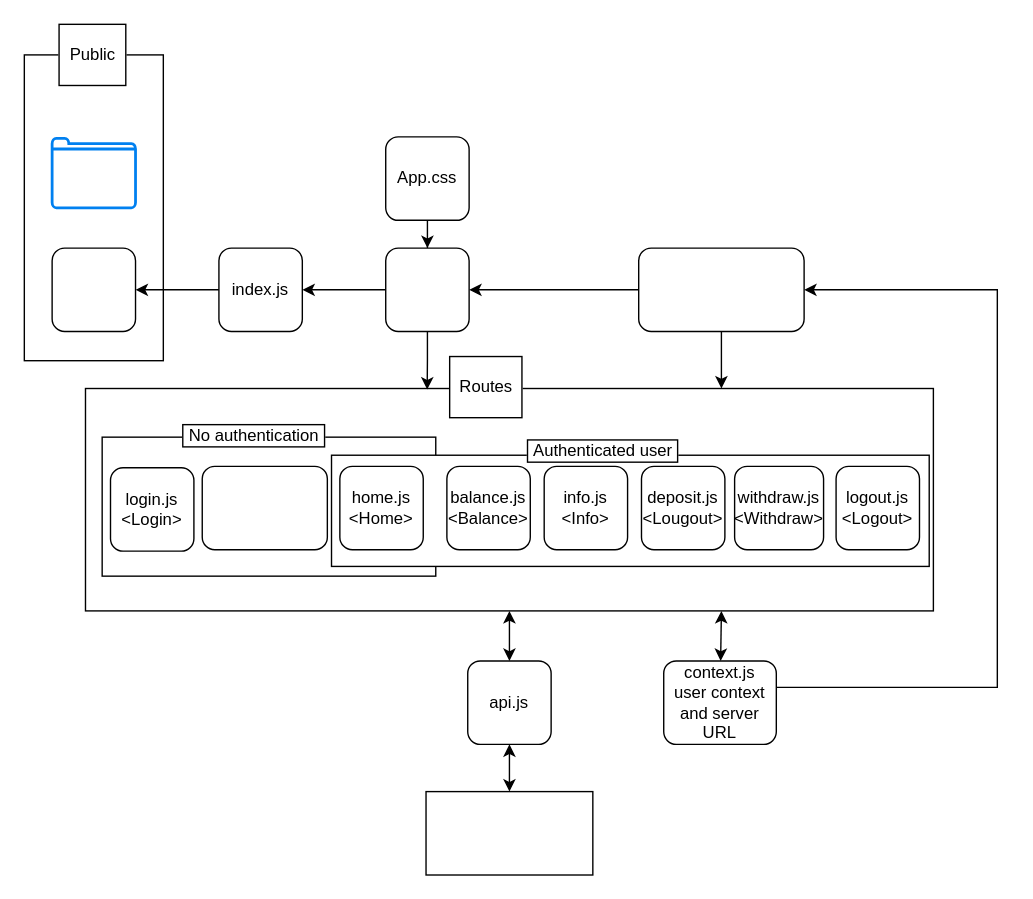
The diagram is 1033 pixels wide and 899 high, and some of its shapes have lost their labels. The centre of each missing label's shape, as x and y in pixels:
"App.js <App>" goes at pixel 426 289.
"Backend server and Authentication server" goes at pixel 509 832.
"creataccount.js <CreatAccount>" goes at pixel 264 507.
"imgs" goes at pixel 93 172.
"index.html <root>" goes at pixel 93 289.
"navbar.js <NavBar> <NoAuthNavBar>" goes at pixel 720 289.
